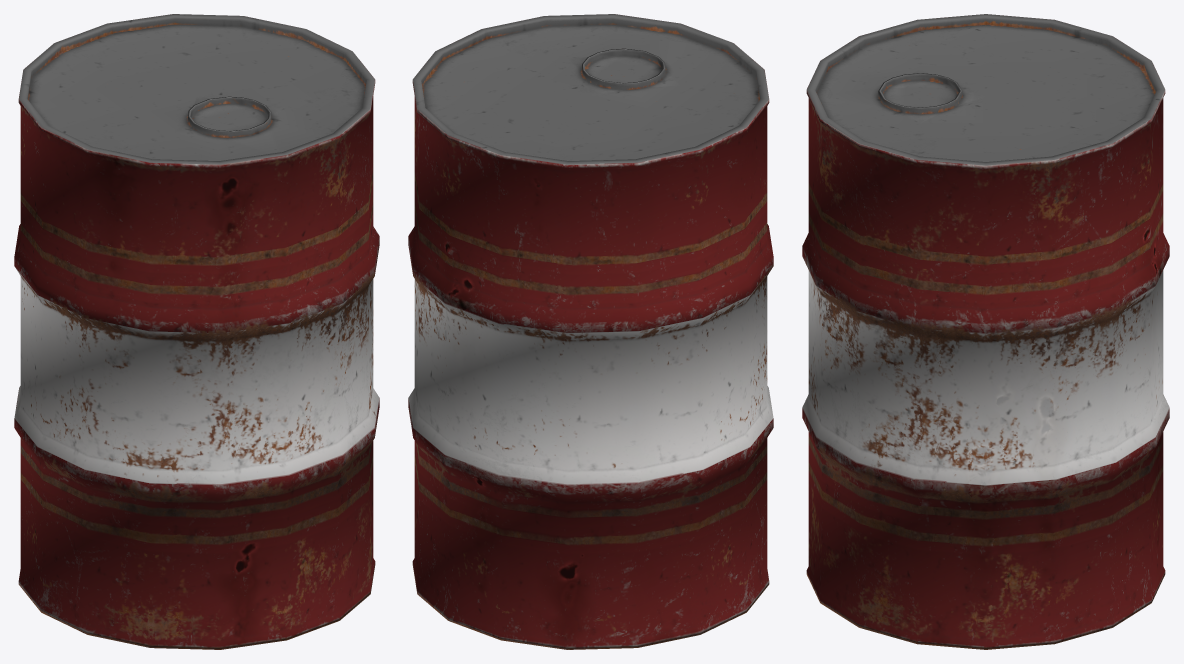
The model's file is barrel1.fbx.
The picture shows the model from 3 angles, left to right: view 1: azimuth 30°, elevation 25°; view 2: azimuth 150°, elevation 25°; view 3: azimuth 270°, elevation 25°; orthographic projection.
Visible parts, largest first — view 1: barrel_LOD0; view 2: barrel_LOD0; view 3: barrel_LOD0.
Part boxes in pixels (x1,y1,x2,y2): barrel_LOD0: [14, 14, 379, 649]; barrel_LOD0: [408, 14, 773, 649]; barrel_LOD0: [802, 14, 1169, 649].
Size of what is drawn, in the model's own units: 0.6764 by 0.9837 by 0.6764.
